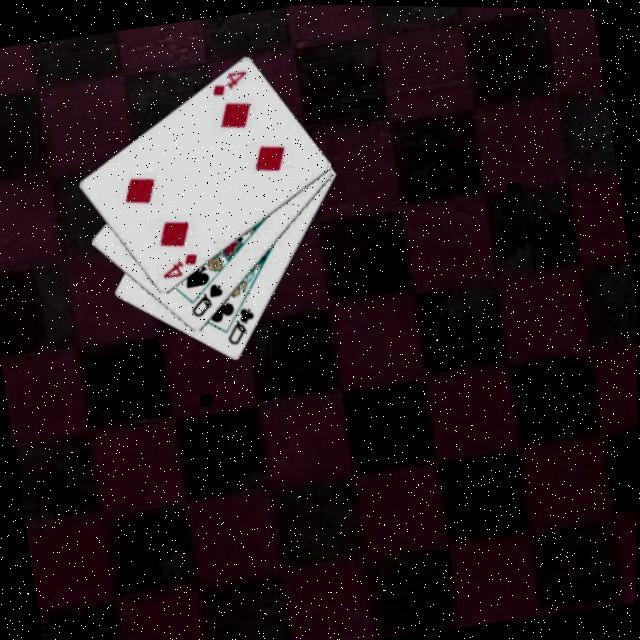4D: (207, 66, 253, 102), (158, 249, 204, 284)
QC: (222, 303, 262, 350)
QS: (186, 279, 231, 323)
